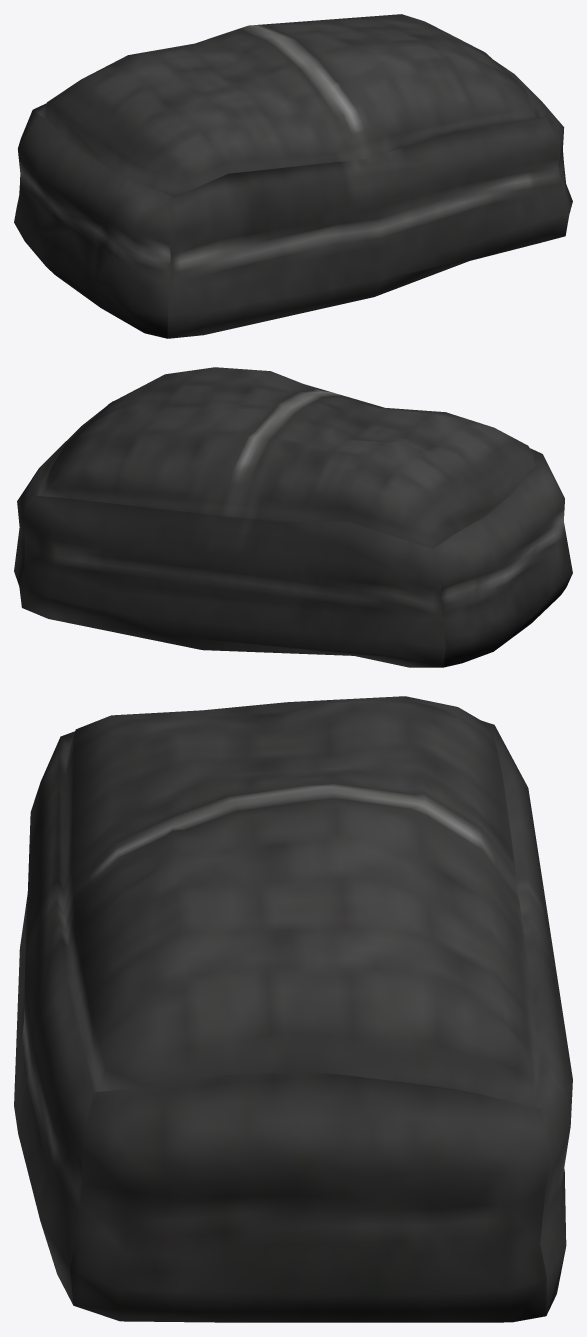
Rendered from ModularPackExtra.fbx.
3 views of the same model, one above another, from view 1: azimuth 30°, elevation 25°; view 2: azimuth 150°, elevation 25°; view 3: azimuth 270°, elevation 25° (orthographic). The views are drawn at different scales.
Visible parts, largest first — view 1: ModernMilitaryBackpackMedical.001; view 2: ModernMilitaryBackpackMedical.001; view 3: ModernMilitaryBackpackMedical.001.
Part boxes in pixels (<box>): ModernMilitaryBackpackMedical.001: <box>14,14,572,338</box>; ModernMilitaryBackpackMedical.001: <box>14,367,572,667</box>; ModernMilitaryBackpackMedical.001: <box>14,696,572,1322</box>.
Size of the model in its own units: 0.1629 by 0.069 by 0.0975.
